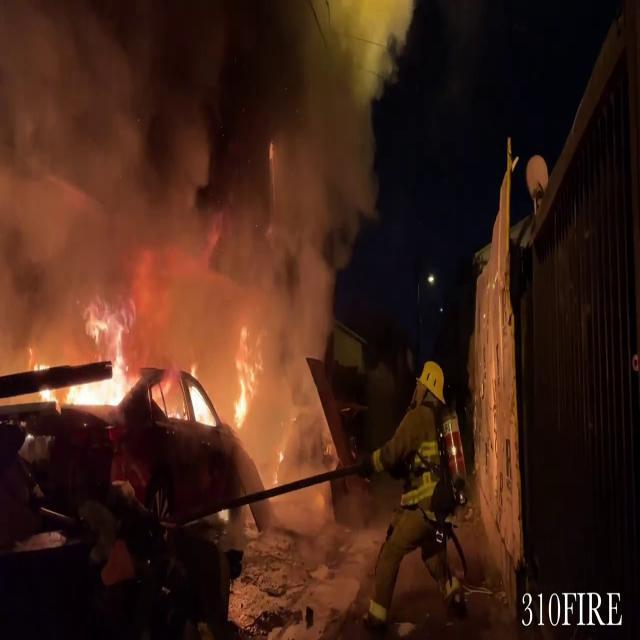Fire: (55, 317, 262, 438)
Smoke: (0, 0, 398, 354)
